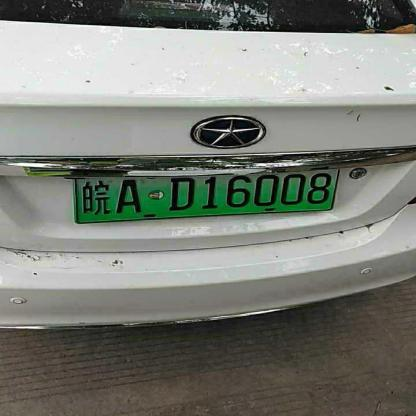lp: (75, 167, 339, 222)
